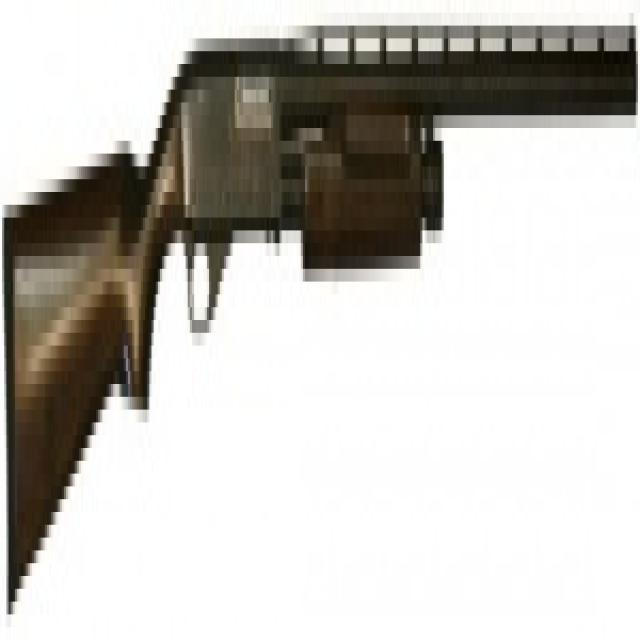rifle: (1, 1, 640, 632)
